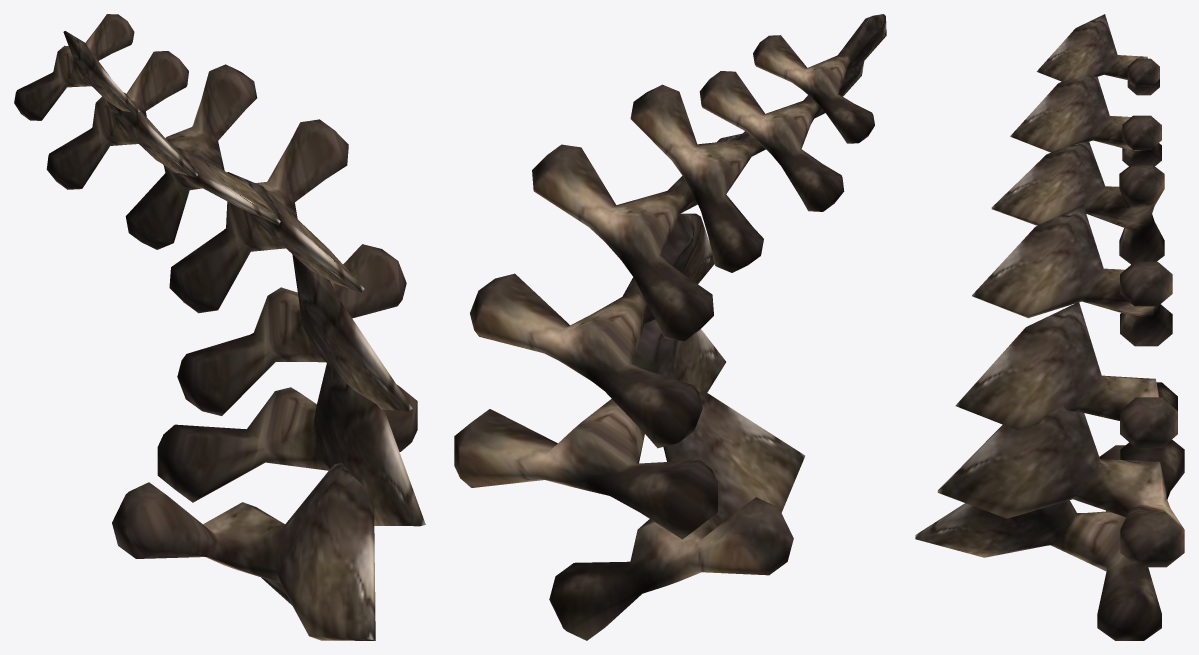
3 views of the same model, side by side, from view 1: azimuth 30°, elevation 25°; view 2: azimuth 150°, elevation 25°; view 3: azimuth 270°, elevation 25° (orthographic). The views are drawn at different scales.
Visible parts, largest first — view 1: model_Object30; view 2: model_Object30; view 3: model_Object30.
Part boxes in pixels (x1,y1,x2,y2): model_Object30: (14,14,425,640); model_Object30: (454,14,886,640); model_Object30: (915,14,1184,640).
Size of the model in its own units: 1.65 by 2.64 by 1.23.
Materials: 1 (1 with a texture image).
